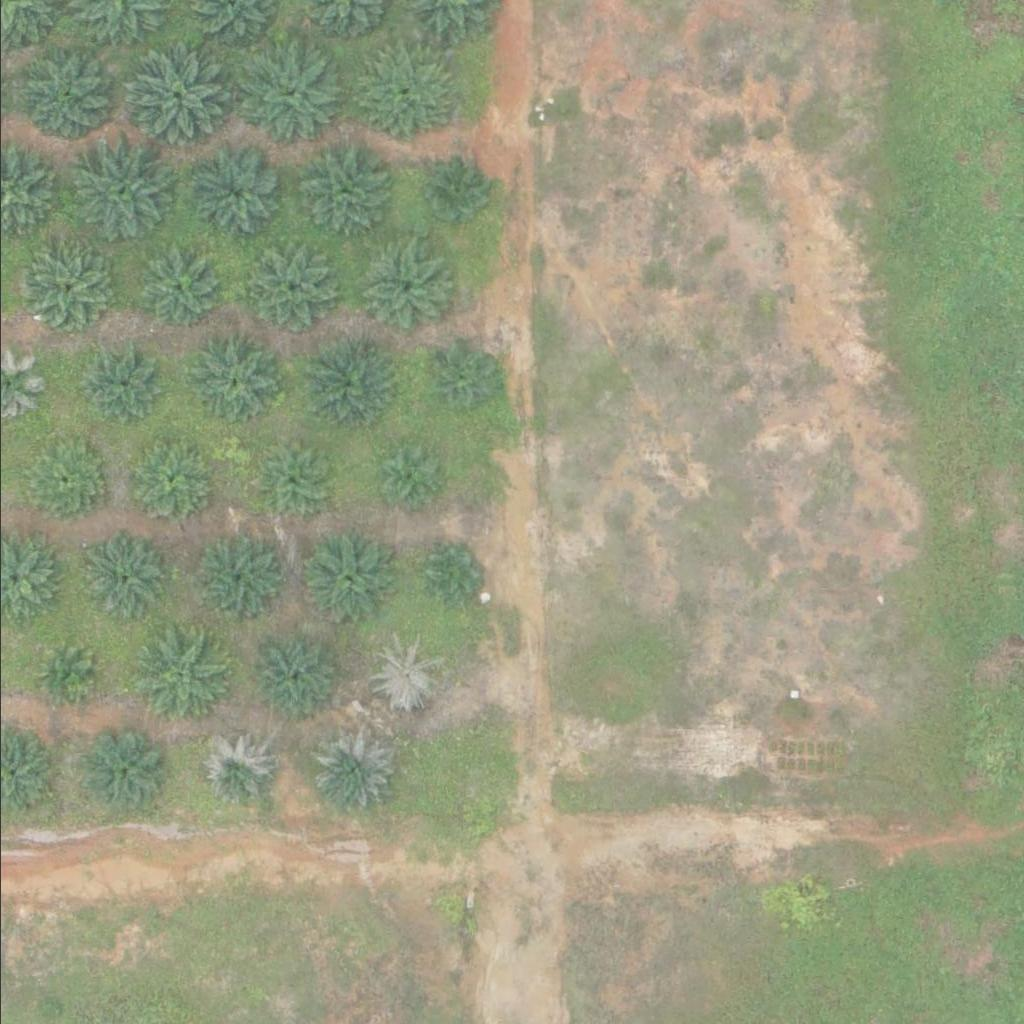Kelapa_Sawit: (63, 136, 176, 249), (119, 43, 232, 155), (349, 45, 450, 145), (243, 47, 344, 147), (291, 141, 392, 241), (183, 144, 284, 244), (353, 238, 454, 338), (16, 46, 116, 146), (296, 530, 396, 630), (242, 629, 342, 729), (128, 629, 228, 729), (241, 246, 330, 334), (17, 436, 106, 524), (299, 340, 387, 428), (186, 337, 274, 425), (120, 439, 208, 527), (306, 725, 394, 813), (76, 727, 164, 815), (128, 243, 216, 330), (18, 246, 106, 333), (191, 535, 279, 622), (75, 534, 163, 621), (367, 636, 443, 711), (197, 737, 273, 812), (249, 442, 324, 517), (81, 346, 156, 421), (428, 347, 491, 410), (381, 444, 444, 507), (426, 164, 489, 227), (30, 644, 93, 707), (421, 540, 483, 602)
